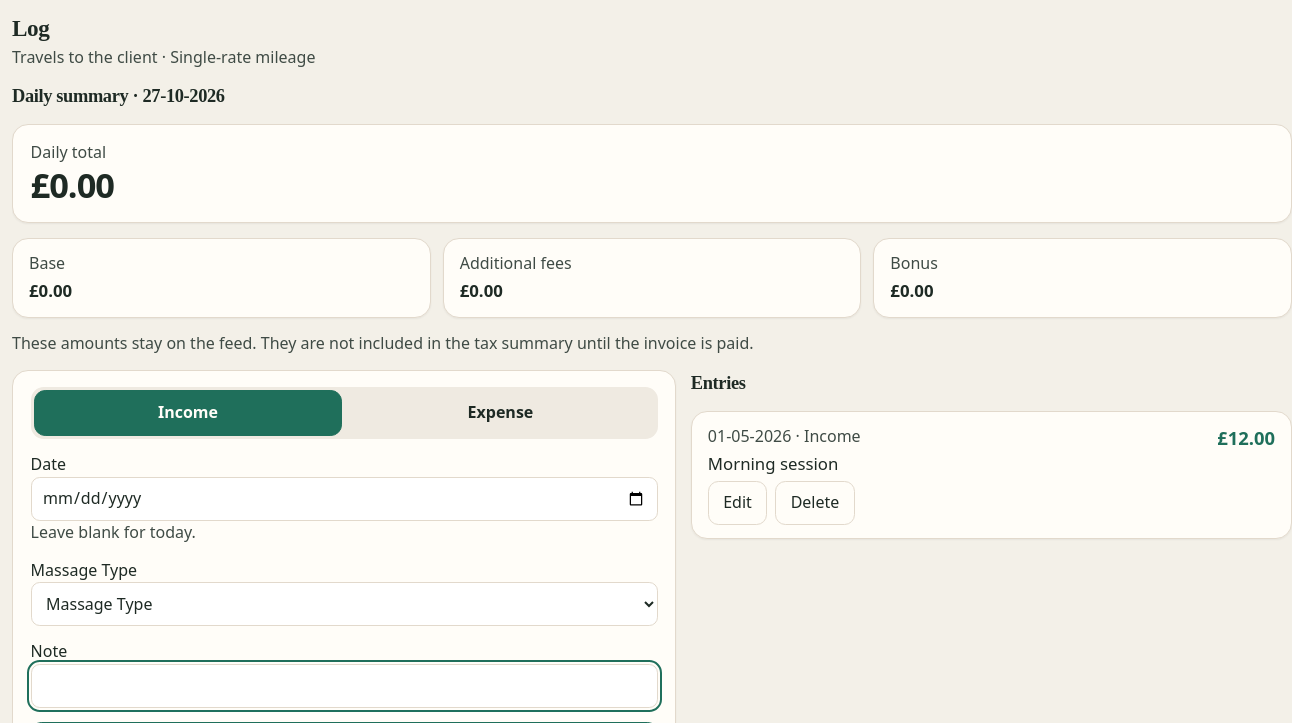
records › asks the server for expenses instead of hiding them on the page
Expected: the text "Morning session" is shown, [708, 452, 838, 475]
Click the radio button labelled "Expense": x=500, y=412 [468, 401, 533, 423]
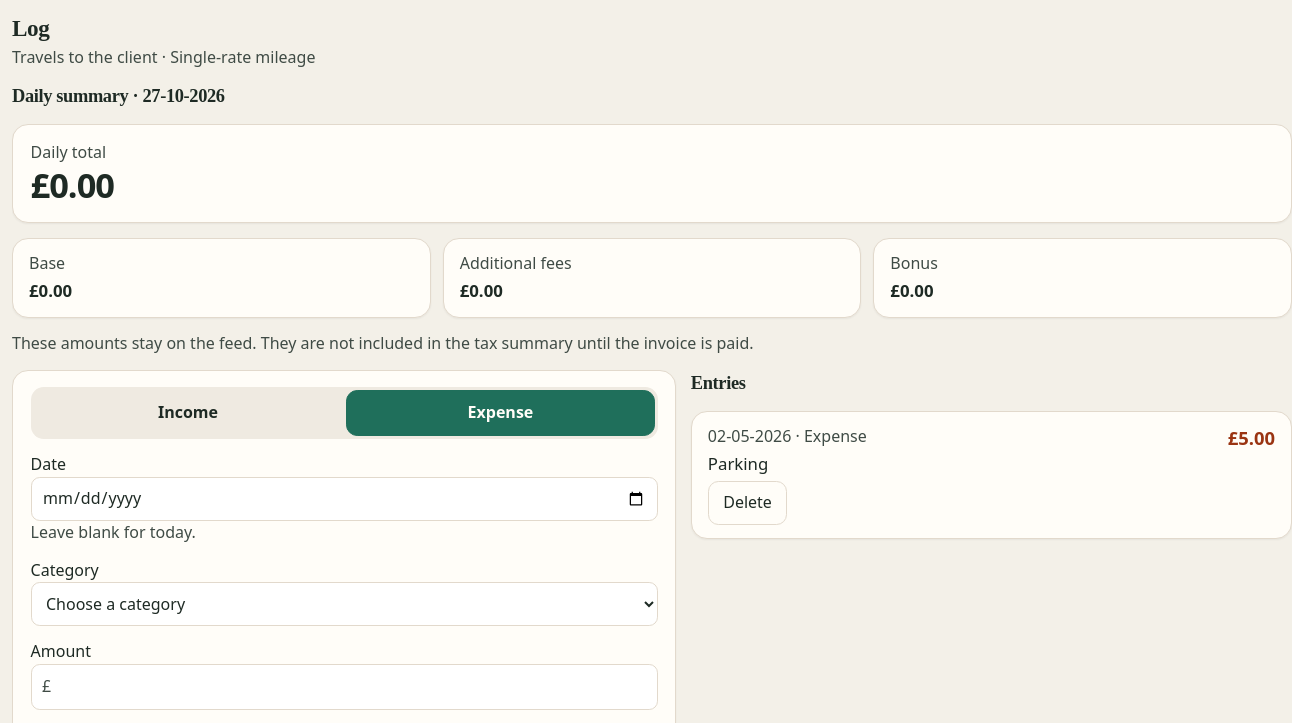
Now the text "Parking" is shown, box [708, 452, 768, 475]
Now the text "Morning session" is gone
